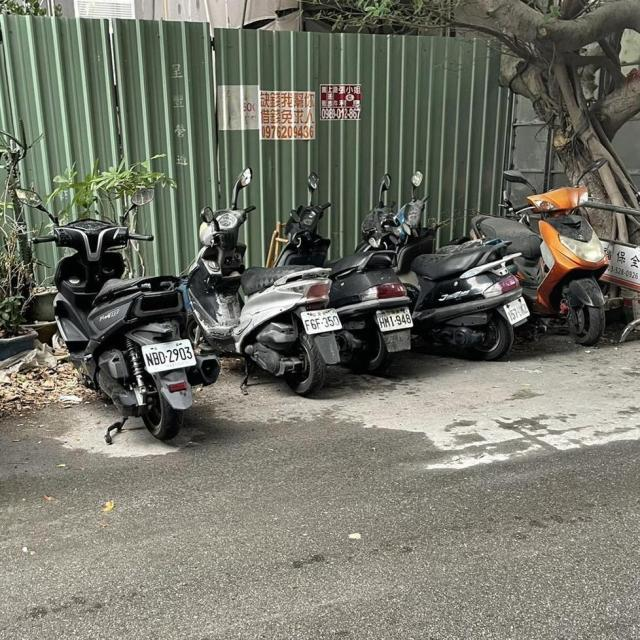W: (138, 337, 200, 374), (296, 304, 344, 336), (371, 302, 417, 333), (498, 292, 536, 325)
